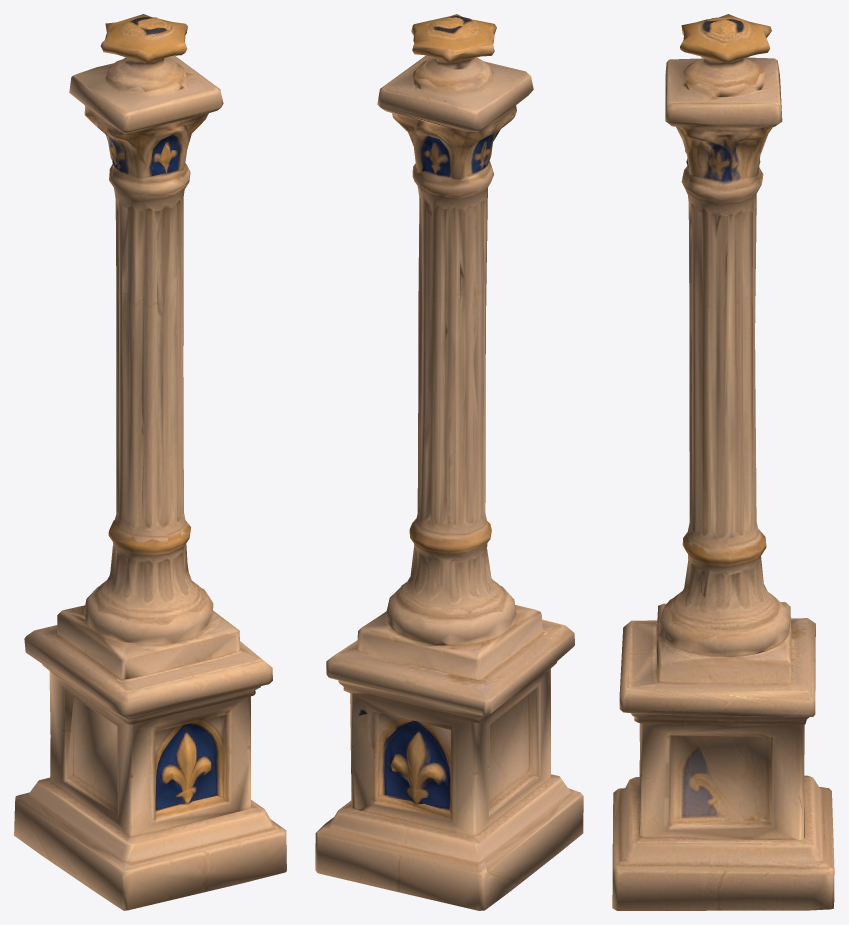
Rendered from lamp-post-stone.glb.
3 renders of one model, left to right at view 1: azimuth 30°, elevation 25°; view 2: azimuth 150°, elevation 25°; view 3: azimuth 270°, elevation 25°, orthographic.
Visible parts, largest first — view 1: lamp-post-stone; view 2: lamp-post-stone; view 3: lamp-post-stone.
Boxes of the visible parts, x1,y1,x2,y2 form: lamp-post-stone: [14, 14, 286, 910]; lamp-post-stone: [315, 14, 583, 910]; lamp-post-stone: [612, 14, 834, 910].
Size of the model in its own units: 0.9346 by 4.36 by 1.04.
1 material, 1 textured.
